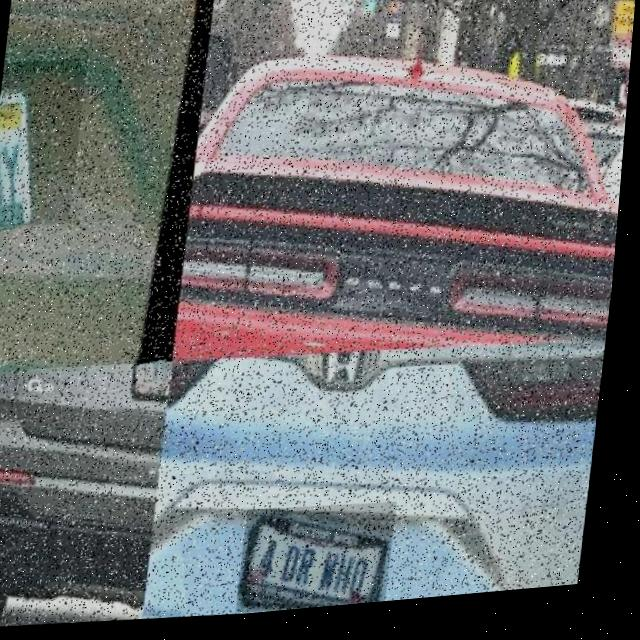LicensePlate: (0, 56, 89, 231), (248, 515, 403, 613), (140, 362, 176, 396)
